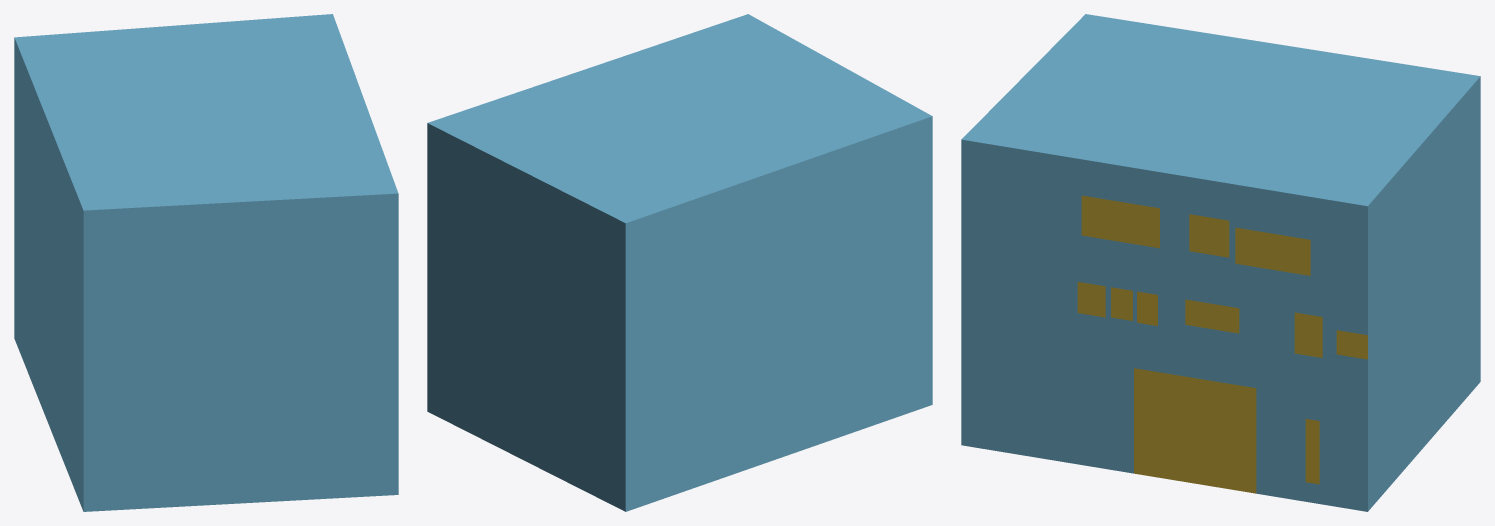
Rendered from bldg_9bb2fa5d-c86b-4dd7-8986-a57a609feed5.obj.
The picture shows the model from 3 angles, left to right: view 1: azimuth 30°, elevation 25°; view 2: azimuth 150°, elevation 25°; view 3: azimuth 270°, elevation 25°; orthographic projection. The views are drawn at different scales.
Bounding box in the file's own units: 14.1 × 10.45 × 16.09.
